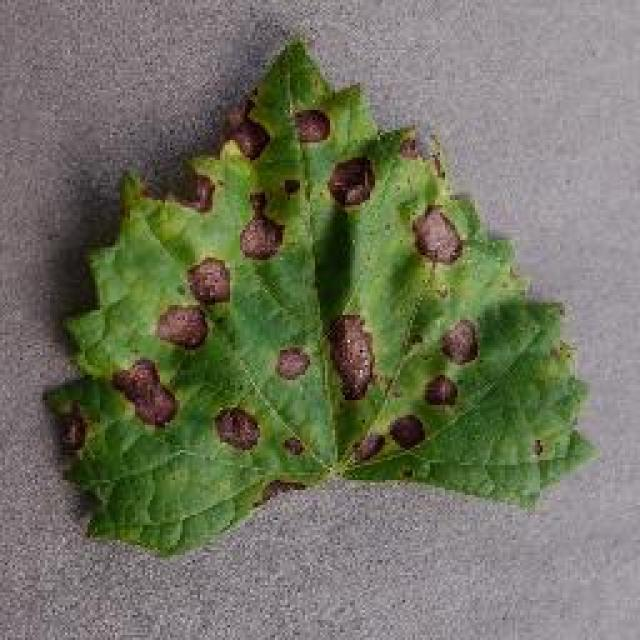Black_rot: (33, 13, 628, 577)
